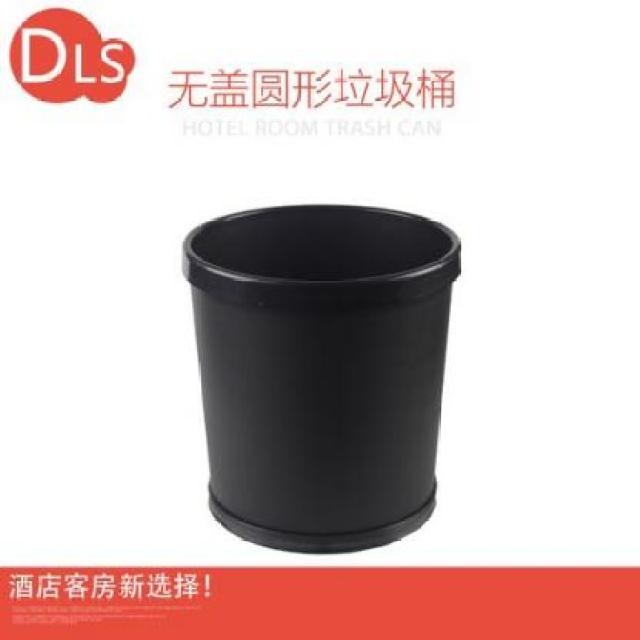dustbin: (179, 198, 466, 562)
